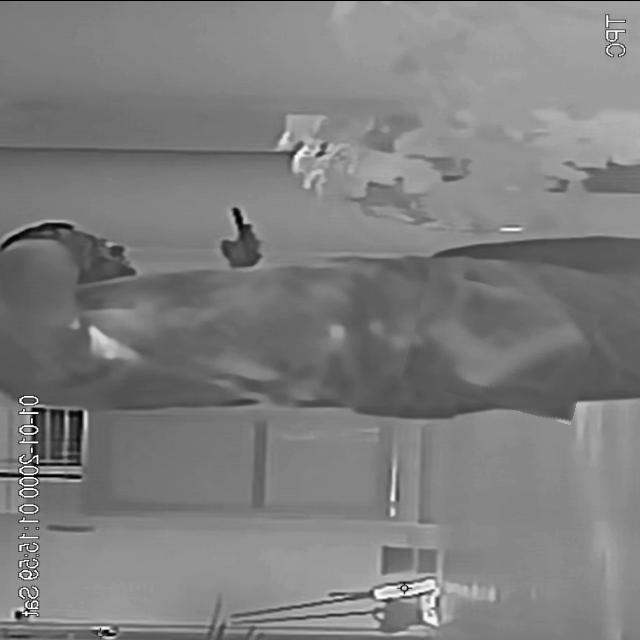Weapon: (407, 280, 595, 414)
